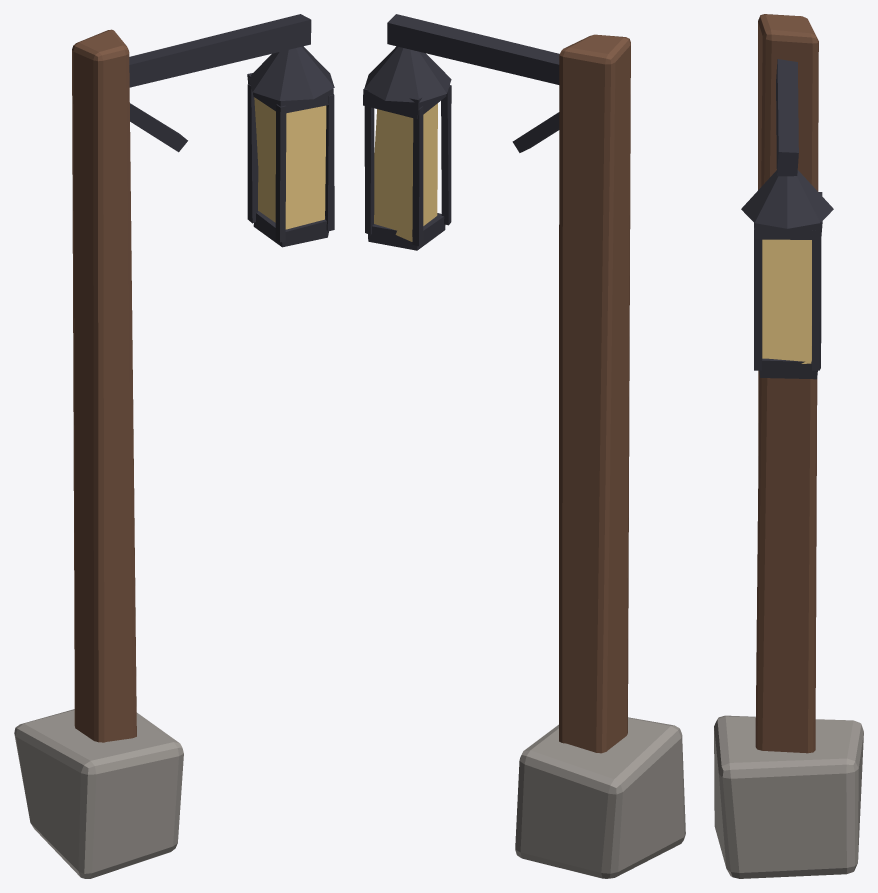
File: lamp_post.glb
3 renders of one model, left to right at view 1: azimuth 30°, elevation 25°; view 2: azimuth 150°, elevation 25°; view 3: azimuth 270°, elevation 25°, orthographic. The views are drawn at different scales.
Visible parts, largest first — view 1: post, footing, iron_lantern, iron_arm, glow; view 2: post, footing, iron_lantern, iron_arm, glow; view 3: post, footing, iron_lantern, glow, iron_arm.
Part boxes in pixels (<box>): post: <box>72,29,136,742</box>; footing: <box>14,709,183,878</box>; iron_lantern: <box>247,46,334,247</box>; iron_arm: <box>129,14,311,152</box>; glow: <box>254,97,326,229</box>; post: <box>559,34,630,753</box>; footing: <box>515,717,685,878</box>; iron_lantern: <box>363,46,451,250</box>; iron_arm: <box>387,14,559,152</box>; glow: <box>374,103,437,241</box>; post: <box>755,14,818,753</box>; footing: <box>714,715,863,878</box>; iron_lantern: <box>741,170,833,379</box>; glow: <box>762,239,811,363</box>; iron_arm: <box>776,59,798,176</box>.
Bounding box in the file's own units: 0.876 × 2.38 × 0.3865.
